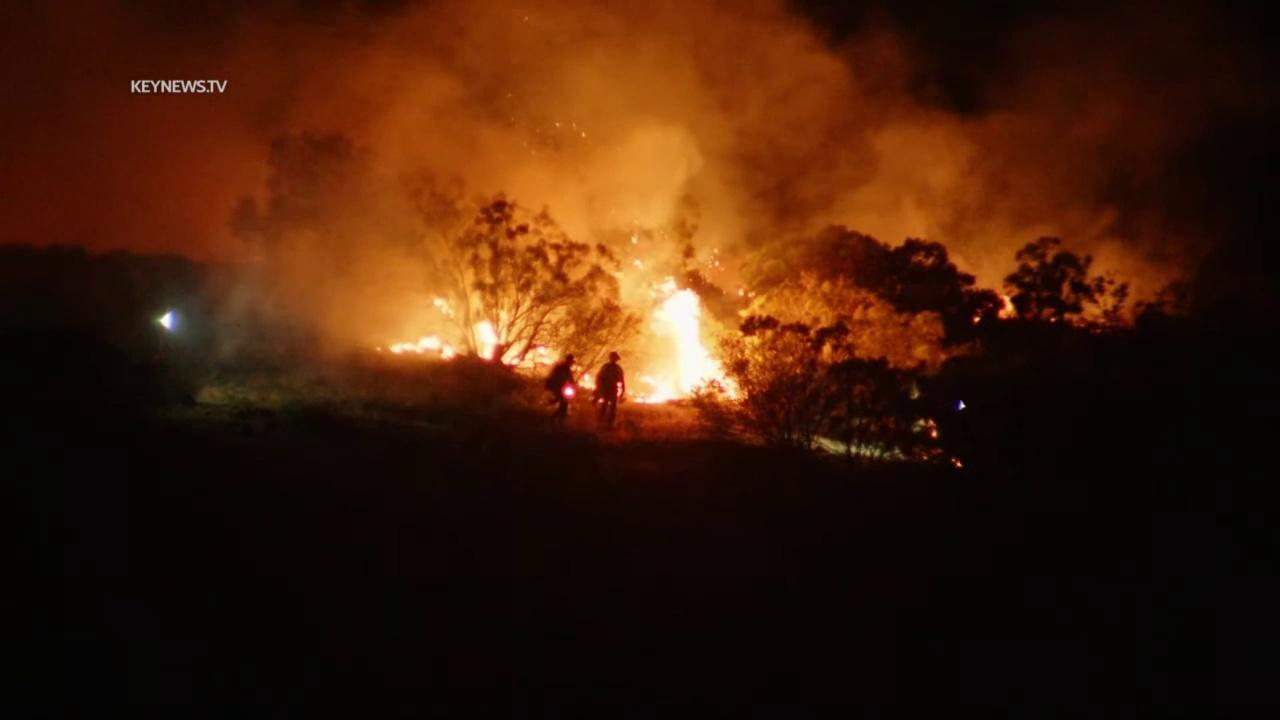fire: (628, 274, 742, 404), (373, 334, 457, 361), (472, 318, 499, 362), (569, 364, 597, 389), (432, 296, 457, 321), (996, 299, 1018, 319), (537, 345, 555, 366), (560, 385, 577, 398), (505, 356, 523, 367), (949, 456, 963, 469), (614, 381, 624, 399), (735, 287, 746, 298), (929, 427, 938, 439), (972, 315, 982, 325), (597, 397, 605, 405)
smoke: (0, 0, 1203, 418)
